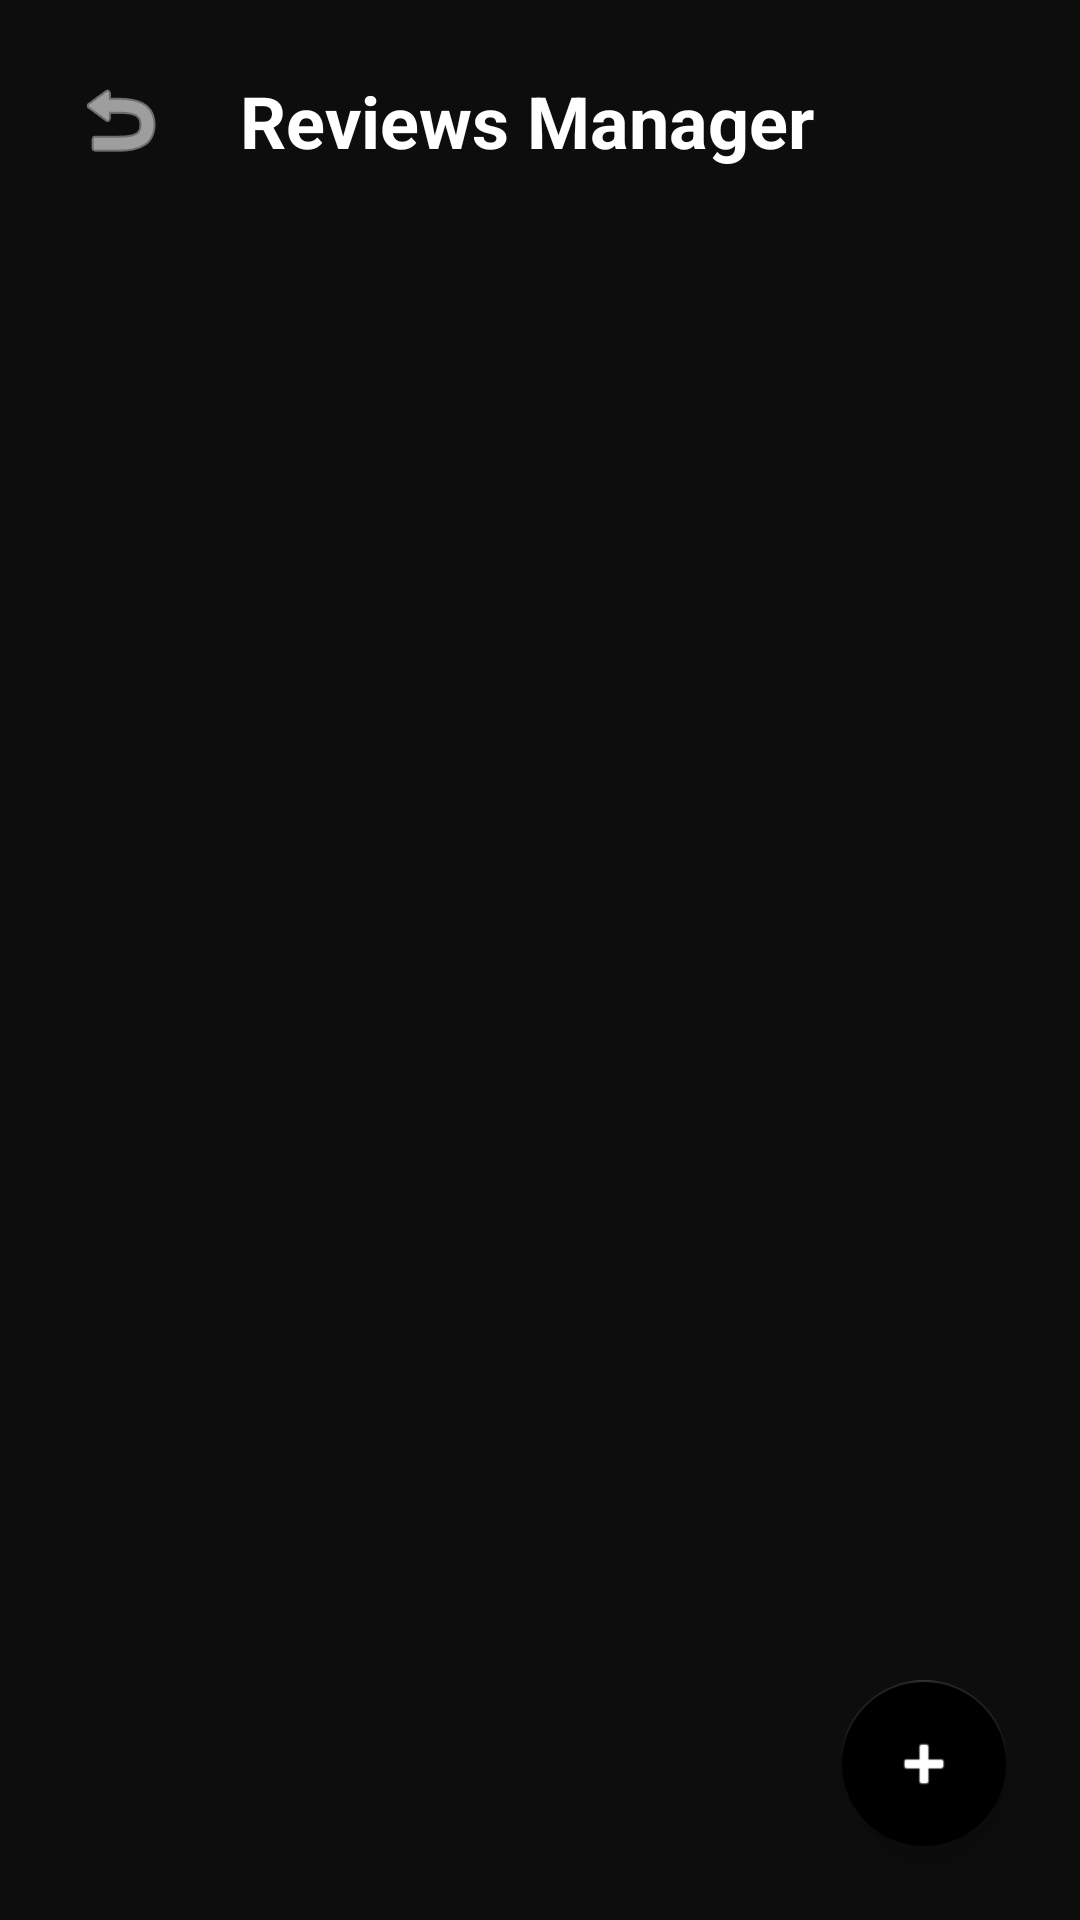

Screen size 1080x1920. Icon name, then its center in pixels as point (x, y):
Add Review: point (924, 1763)
Back: point (121, 120)
